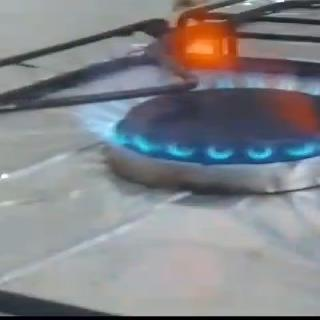fire: (61, 2, 320, 167)
